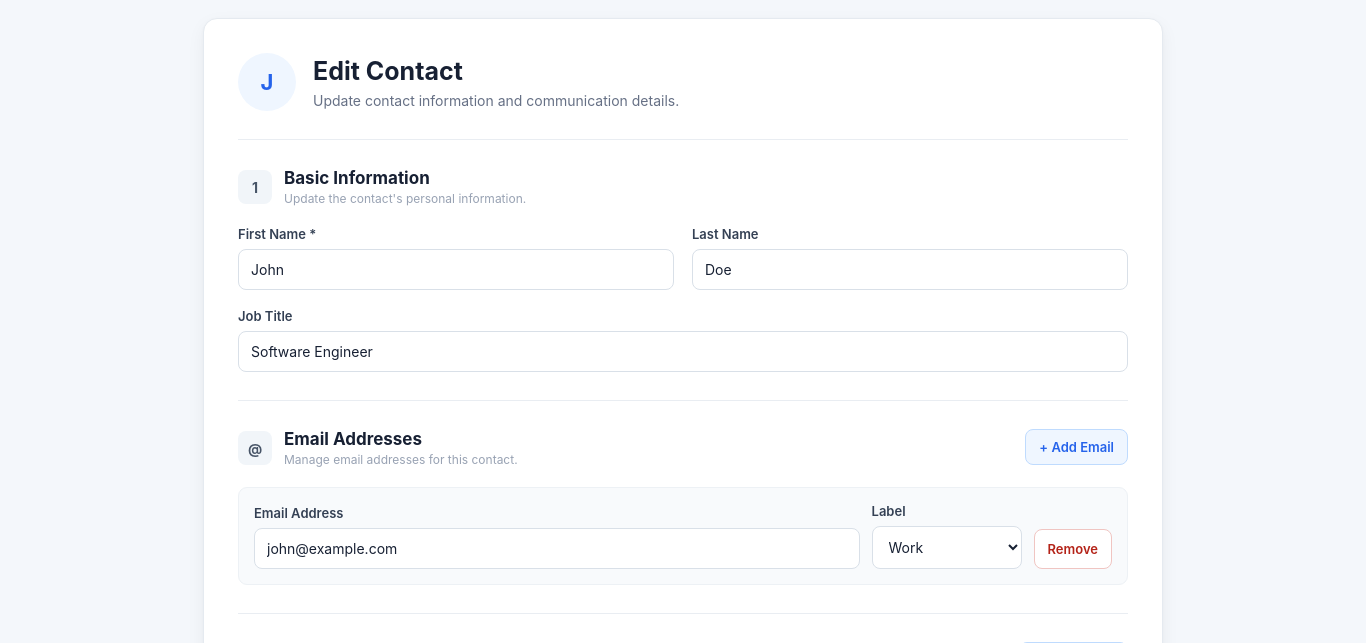
Test: EditContact › adds a new email
Expected: the field showing "john@example.com" is shown, [254, 528, 860, 569]
Click the button "+ Add Email": (1077, 447) [1025, 429, 1128, 465]
(page scrolled)
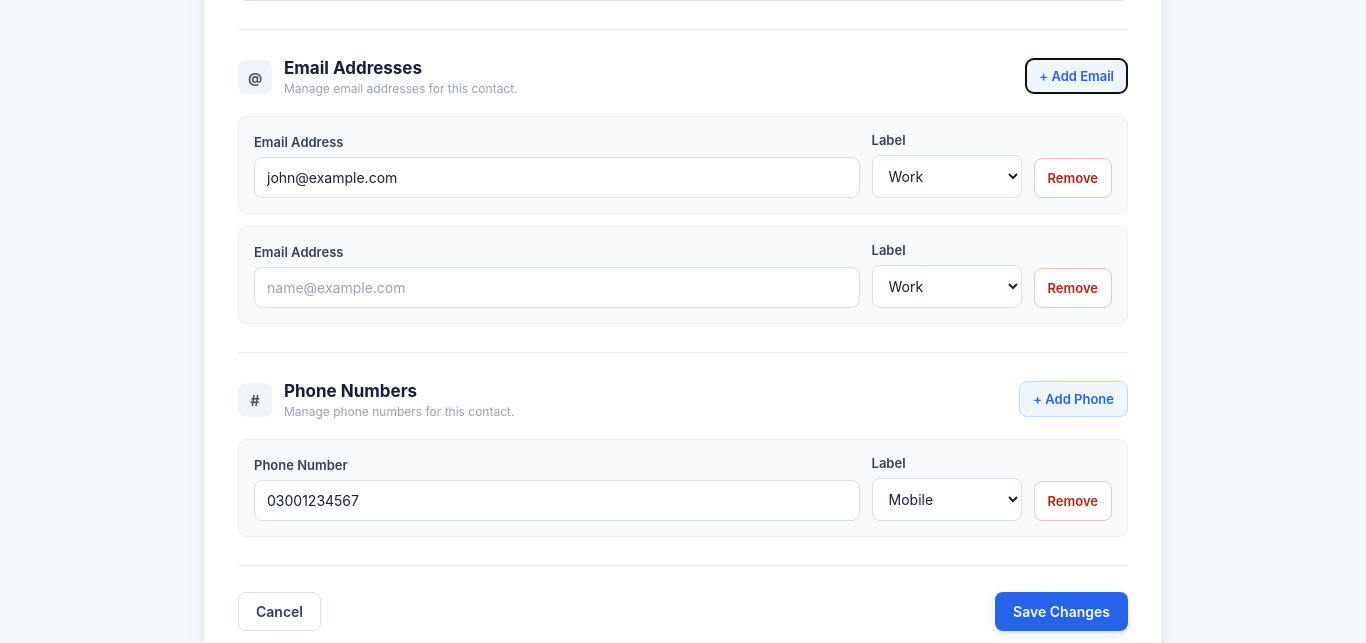
Result: the number of fields labelled "Email Address" is 2 at [254, 157, 860, 198]; [254, 267, 860, 308]
Result: the 2nd dropdown labelled "Label" shows "Work" at [872, 265, 1022, 308]
